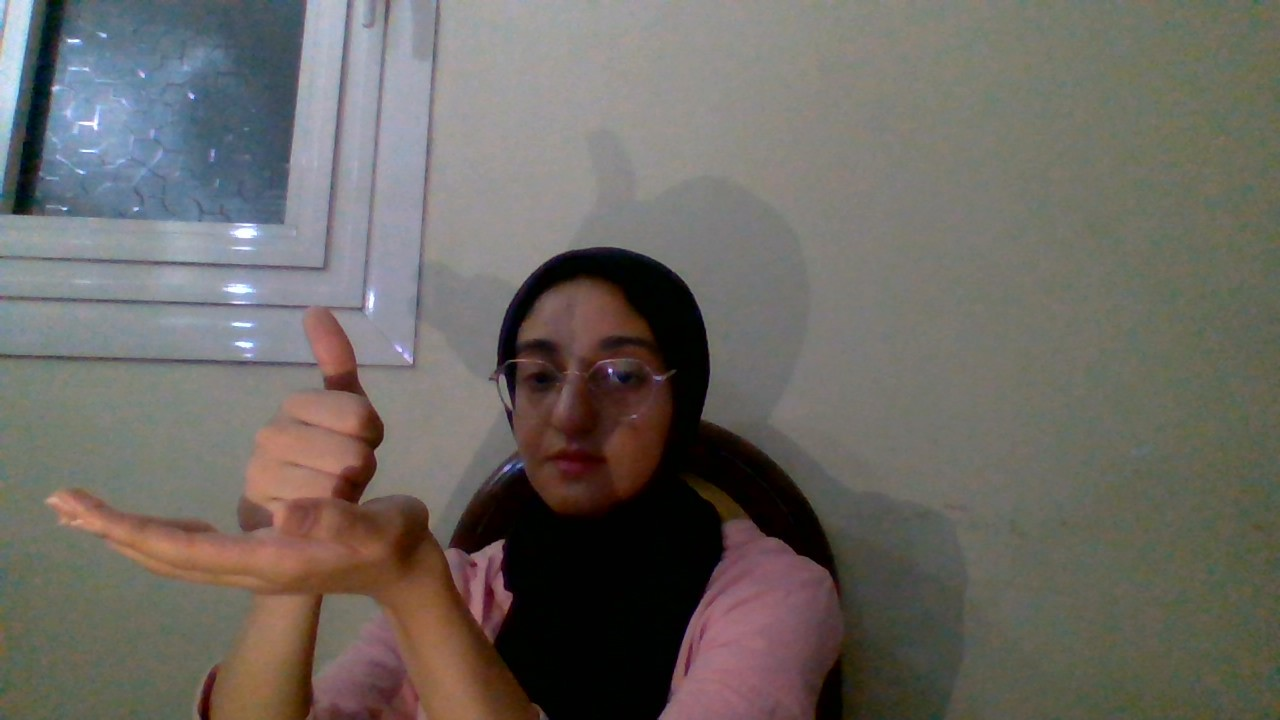help: (27, 257, 460, 622)
